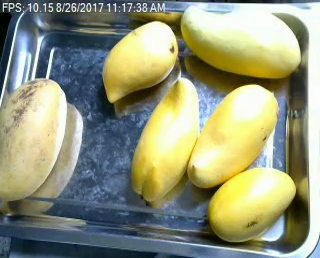Mango: (189, 84, 277, 189), (181, 4, 301, 78), (131, 77, 200, 199), (0, 78, 68, 200), (208, 166, 298, 242), (100, 19, 177, 102)
